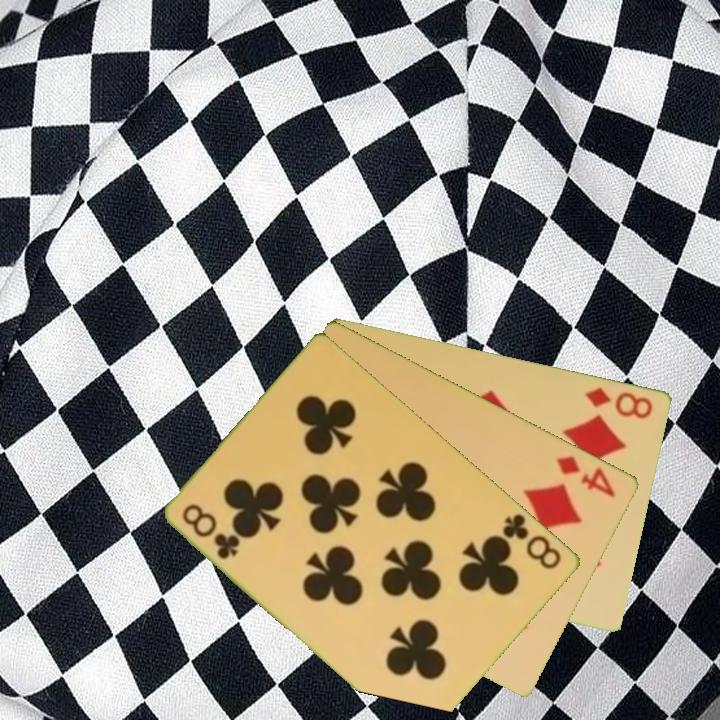4d: (553, 452, 619, 501)
8c: (179, 500, 244, 563), (499, 510, 565, 572)
8d: (581, 383, 656, 422)
